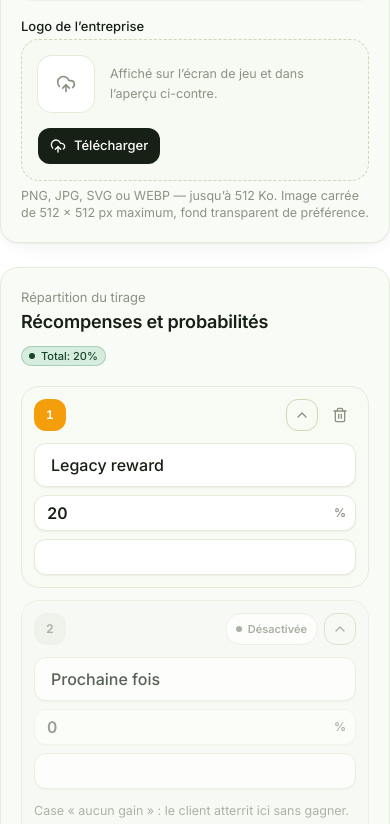
Test: wheel configuration page › deletes a persisted reward immediately and keeps it gone
(page scrolled)
Expected: the number field named "Probabilité de Legacy reward" is shown, [34,495,356,531]
Click the button named "Supprimer la récompense Legacy reward".
click(340, 415)  # box [324,399,356,431]
(page scrolled)
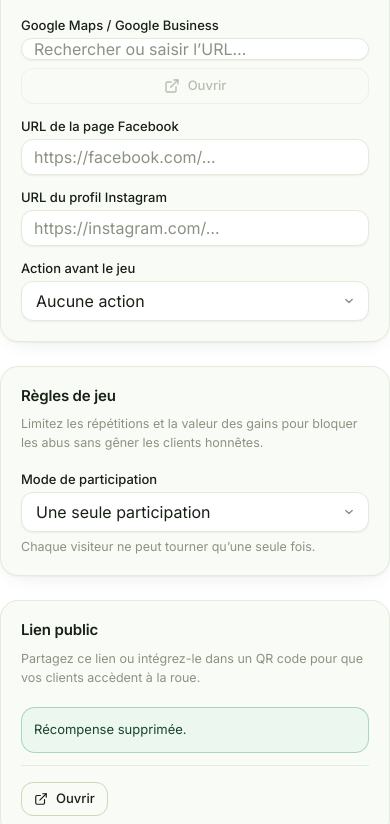
Now the text "Récompense supprimée." is shown, box [21,707,369,753]
